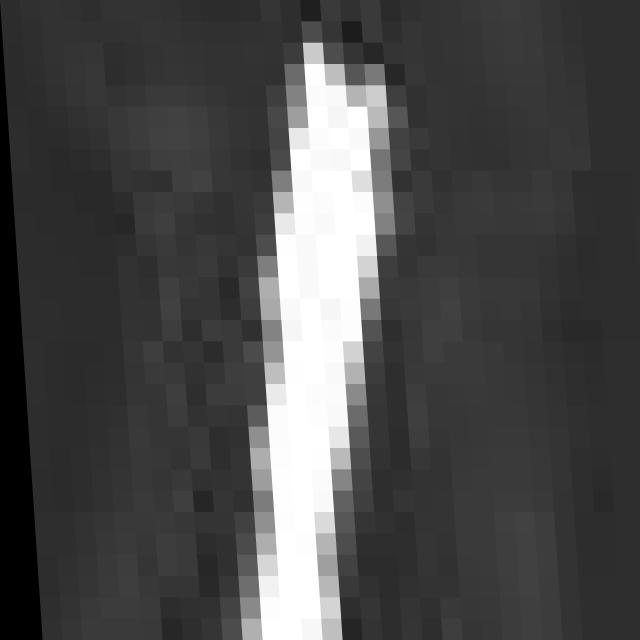fracture: (19, 0, 640, 640)
